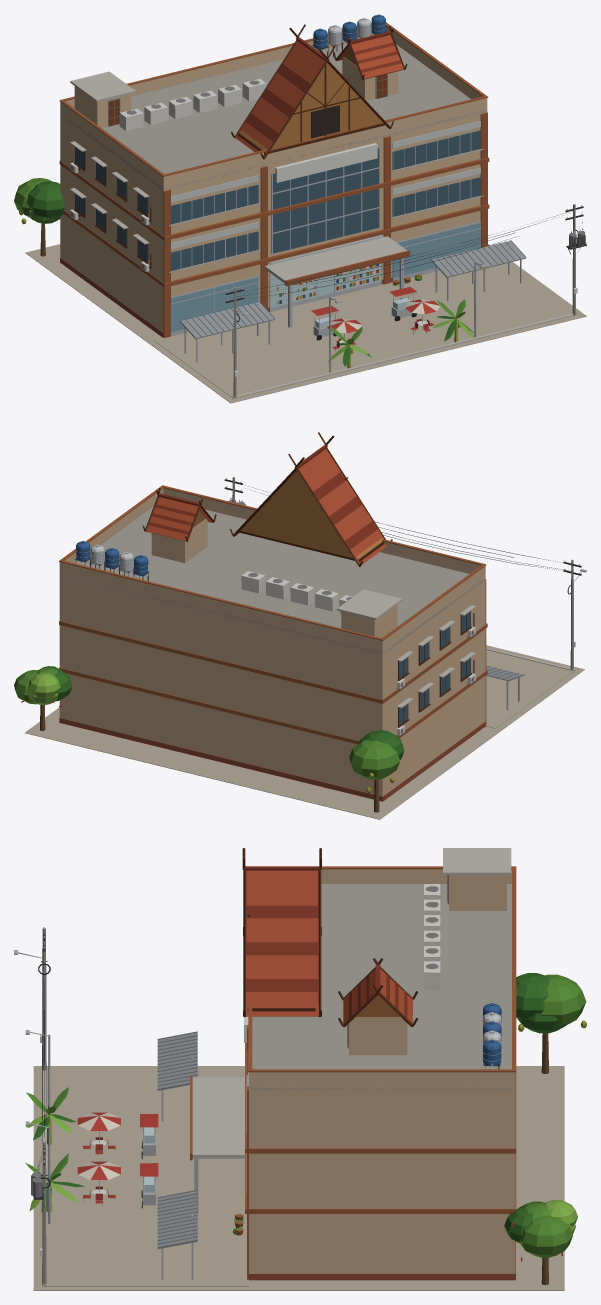
Rendered from shop_5.glb.
3 views of the same model, one above another, from view 1: azimuth 30°, elevation 25°; view 2: azimuth 150°, elevation 25°; view 3: azimuth 270°, elevation 25° (orthographic). The views are drawn at different scales.
Parts seen in each view (by area): view 1: body, windows; view 2: body, windows; view 3: body.
Part boxes in pixels (<box>): body: <box>14,14,586,403</box>; windows: <box>75,105,480,270</box>; body: <box>14,432,586,819</box>; windows: <box>399,611,470,725</box>; body: <box>14,848,586,1290</box>.
Size of the model in its own units: 34.28 by 22 by 34.42.
